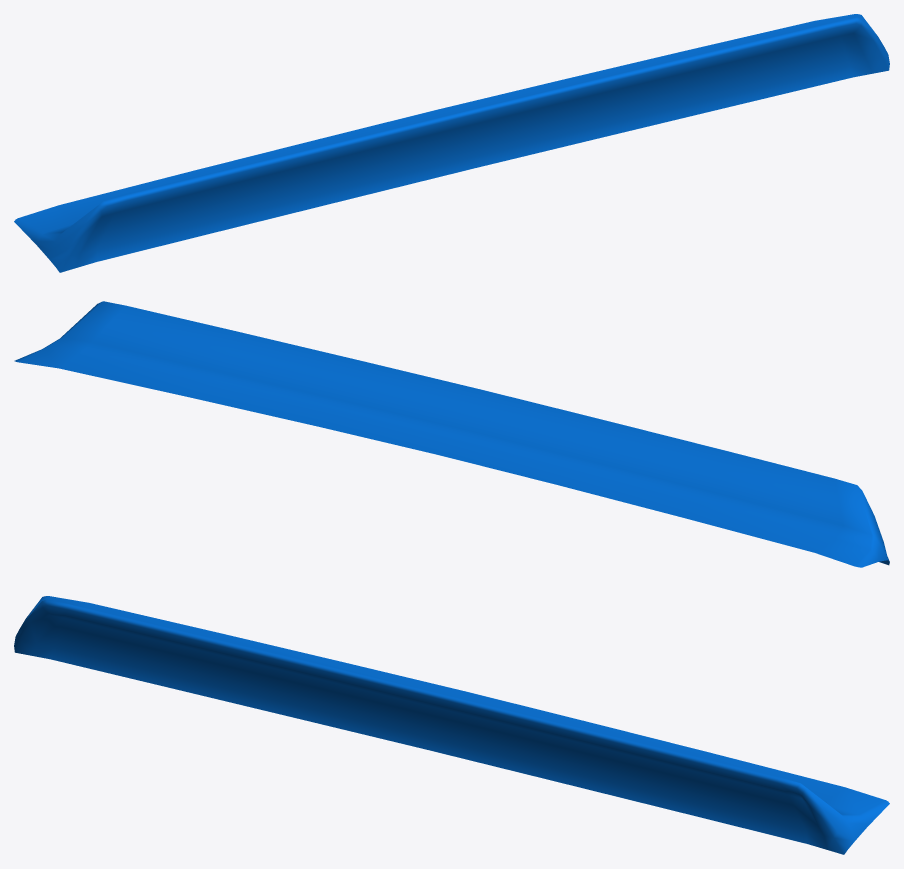
The model's file is Camaro_Spoiler01_Duco.fbx.
3 views of the same model, one above another, from view 1: azimuth 30°, elevation 25°; view 2: azimuth 150°, elevation 25°; view 3: azimuth 330°, elevation 25° (orthographic).
Parts seen in each view (by area): view 1: Camaro_Spoiler01_Duco; view 2: Camaro_Spoiler01_Duco; view 3: Camaro_Spoiler01_Duco.
Boxes of the visible parts, x1=… form: Camaro_Spoiler01_Duco: x1=14, y1=14, x2=889, y2=272; Camaro_Spoiler01_Duco: x1=14, y1=301, x2=889, y2=567; Camaro_Spoiler01_Duco: x1=14, y1=596, x2=889, y2=854.
Size of the model in its own units: 1.61 by 0.1519 by 0.1257.
